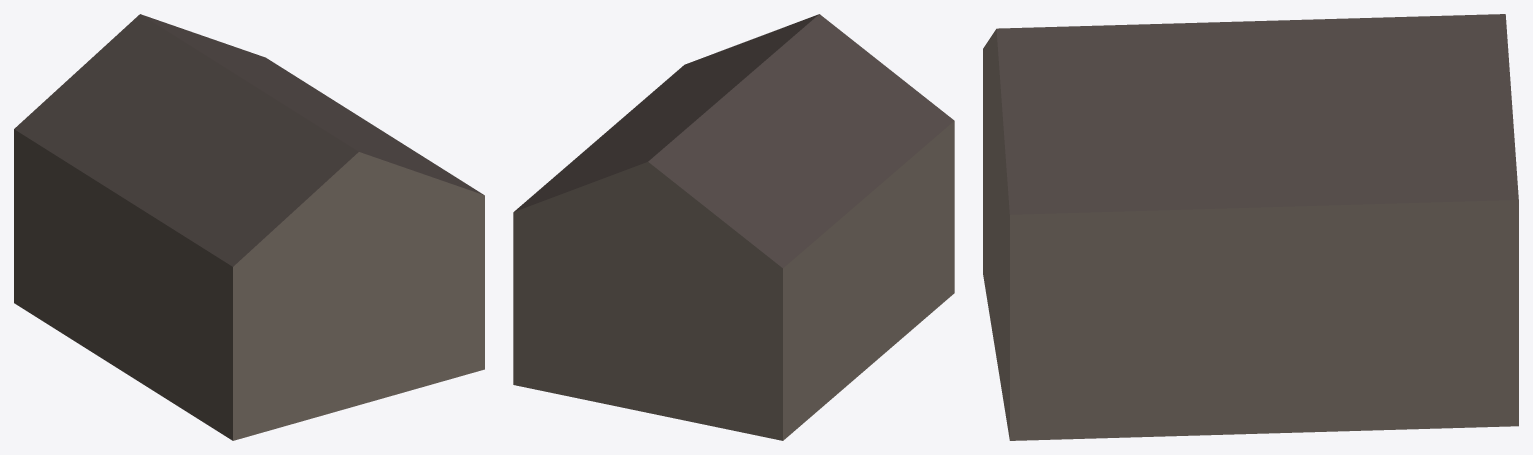
3 renders of one model, left to right at view 1: azimuth 30°, elevation 25°; view 2: azimuth 150°, elevation 25°; view 3: azimuth 270°, elevation 25°, orthographic. The views are drawn at different scales.
Parts seen in each view (by area): view 1: HP-w1424106459; view 2: HP-w1424106459; view 3: HP-w1424106459.
Boxes of the visible parts, bbox=[...] form: HP-w1424106459: bbox=[14, 14, 484, 440]; HP-w1424106459: bbox=[513, 14, 954, 440]; HP-w1424106459: bbox=[983, 14, 1518, 440].
Size of the model in its own units: 10.29 by 8.74 by 12.88.
